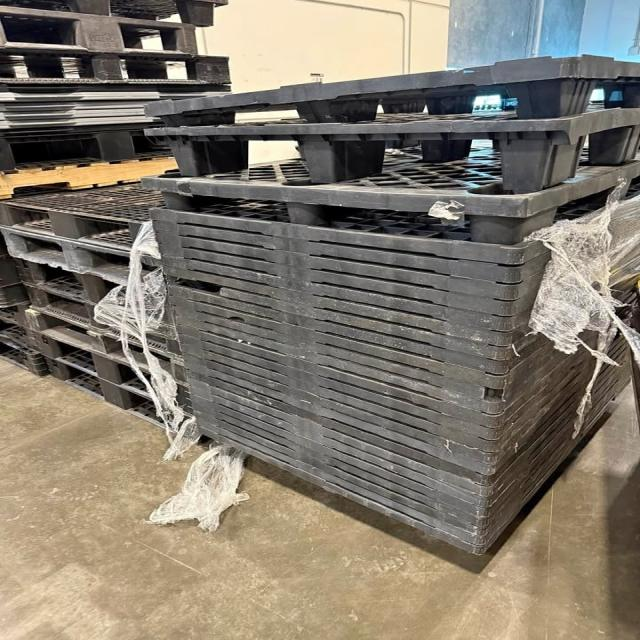non-igps: (135, 156, 640, 256), (131, 100, 640, 199), (136, 48, 640, 132), (189, 398, 483, 531), (194, 423, 481, 559), (178, 366, 492, 490), (190, 407, 482, 540), (194, 415, 481, 549), (186, 391, 484, 520), (186, 383, 483, 511), (182, 374, 486, 499), (179, 358, 491, 478), (175, 330, 497, 445), (177, 340, 492, 456), (173, 321, 498, 432), (171, 312, 497, 419), (164, 292, 504, 394), (163, 282, 504, 381), (169, 302, 496, 405), (160, 272, 504, 364), (160, 262, 507, 351), (158, 252, 506, 336), (147, 228, 509, 306), (155, 241, 505, 320), (146, 204, 516, 278), (146, 216, 514, 289), (29, 326, 202, 424), (36, 352, 205, 444), (18, 278, 189, 364), (21, 305, 194, 389), (0, 176, 165, 262), (5, 252, 180, 330), (0, 222, 174, 296), (0, 3, 200, 62), (0, 146, 182, 202), (0, 53, 237, 89), (0, 129, 151, 174), (0, 0, 232, 29), (0, 89, 245, 104), (0, 113, 168, 132), (0, 120, 172, 138), (0, 327, 53, 379), (0, 105, 151, 123), (0, 82, 239, 93), (0, 98, 159, 114), (0, 304, 43, 356)
